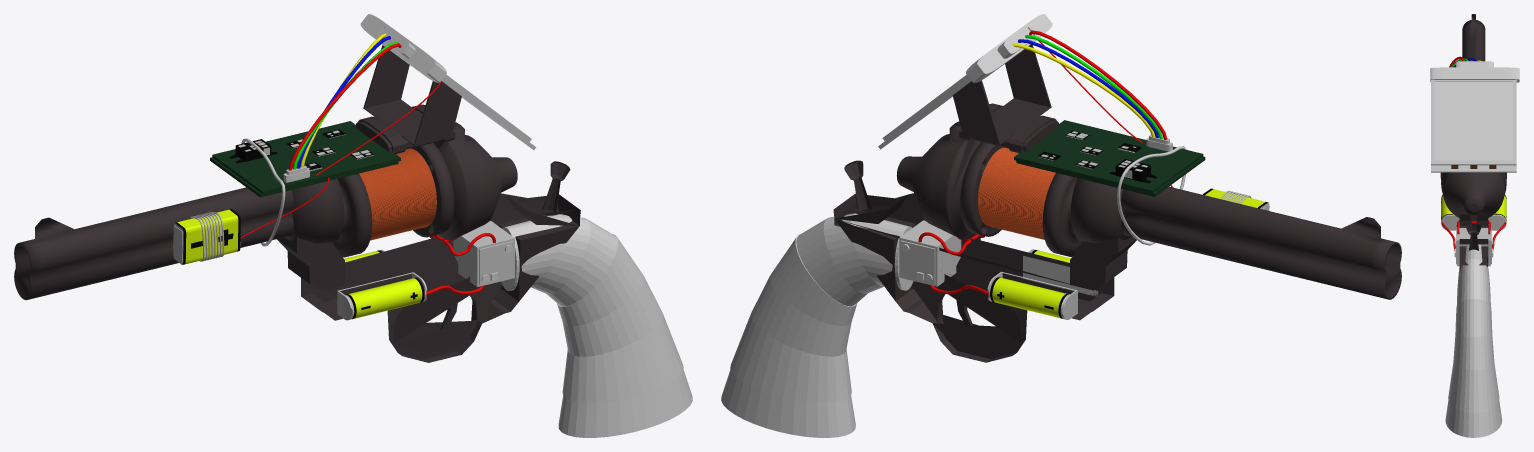
Rendered from tool_gun.glb.
The picture shows the model from 3 angles, left to right: view 1: azimuth 30°, elevation 25°; view 2: azimuth 150°, elevation 25°; view 3: azimuth 270°, elevation 25°; orthographic projection. The views are drawn at different scales.
Parts seen in each view (by area): view 1: pen, foundation, Cylinder_001, chip_001, Cylinder, Cube_015, rope, drum, Cube, Cylinder_002, battery 2, Cube_002 (+6 smaller); view 2: pen, Cylinder_001, foundation, chip_001, rope (×2), Cylinder, Cube_015, drum, Cube, Cylinder_002, Cube_002, battery_002 (+8 smaller); view 3: pen, Cube_014, Cylinder, Cube_016, foundation, Cylinder_001, Cube_013, Cube, battery, battery_002, Cube_017, wire 1.
Boxes of the visible parts, bbox=[...] form: pen: bbox=[501, 214, 692, 437]; foundation: bbox=[301, 161, 580, 362]; Cylinder_001: bbox=[14, 187, 293, 300]; chip_001: bbox=[212, 121, 400, 193]; Cylinder: bbox=[433, 122, 517, 240]; Cube_015: bbox=[363, 45, 461, 145]; rope: bbox=[359, 148, 436, 240]; drum: bbox=[333, 143, 454, 257]; Cube: bbox=[453, 221, 514, 287]; Cylinder_002: bbox=[284, 179, 344, 243]; battery 2: bbox=[173, 209, 240, 264]; Cube_002: bbox=[277, 237, 344, 290]; pen: bbox=[721, 213, 913, 437]; Cylinder_001: bbox=[1121, 186, 1401, 299]; foundation: bbox=[833, 160, 1114, 362]; chip_001: bbox=[1014, 120, 1203, 193]; rope (×2): bbox=[977, 146, 1185, 245]; Cylinder: bbox=[896, 121, 980, 239]; Cube_015: bbox=[952, 44, 1051, 144]; drum: bbox=[960, 142, 1081, 256]; Cube: bbox=[899, 220, 961, 286]; Cylinder_002: bbox=[1070, 178, 1130, 243]; Cube_002: bbox=[1070, 237, 1136, 290]; battery_002: bbox=[990, 250, 1070, 319]; pen: bbox=[1445, 244, 1502, 437]; Cube_014: bbox=[1431, 80, 1516, 165]; Cylinder: bbox=[1441, 172, 1506, 221]; Cube_016: bbox=[1430, 67, 1519, 82]; foundation: bbox=[1459, 214, 1488, 269]; Cylinder_001: bbox=[1462, 14, 1485, 61]; Cube_013: bbox=[1431, 165, 1516, 172]; Cube: bbox=[1454, 228, 1493, 266]; battery: bbox=[1441, 194, 1506, 230]; battery_002: bbox=[1441, 195, 1506, 220]; Cube_017: bbox=[1456, 61, 1493, 67]; wire 1: bbox=[1441, 222, 1506, 250].
Bounding box in the file's own units: 479 × 302 × 84.44.
